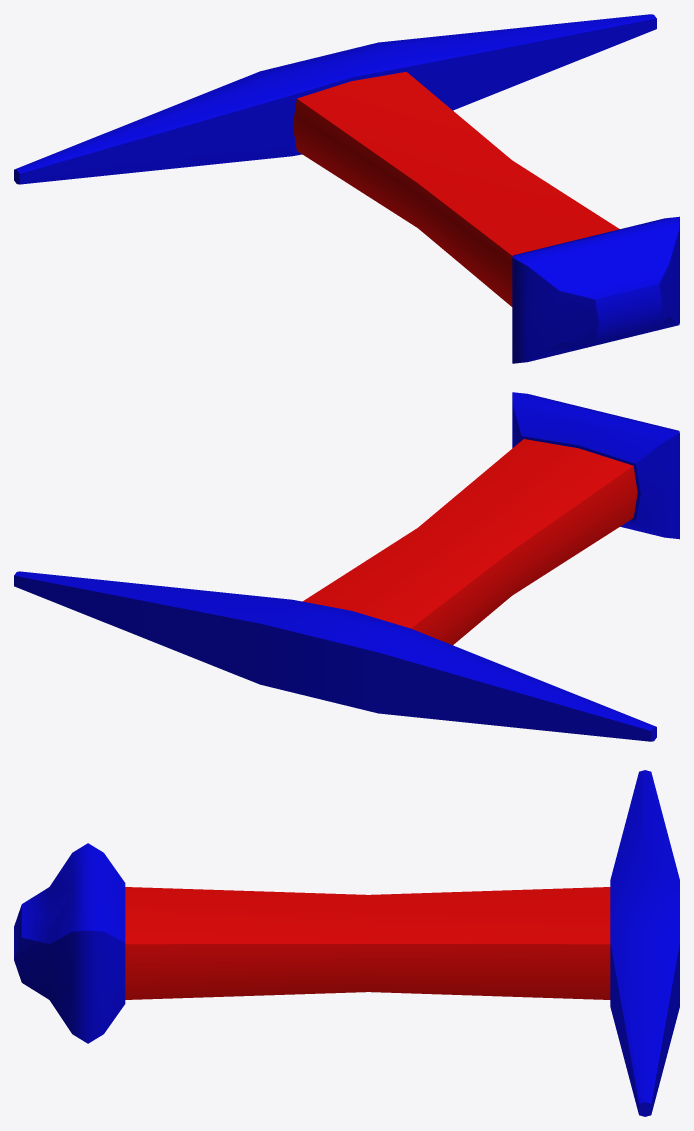
The model's file is hand_2.fbx.
The picture shows the model from 3 angles, top to bottom: view 1: azimuth 30°, elevation 25°; view 2: azimuth 150°, elevation 25°; view 3: azimuth 270°, elevation 25°; orthographic projection. The views are drawn at different scales.
Parts seen in each view (by area): view 1: hand_2; view 2: hand_2; view 3: hand_2.
Boxes of the visible parts, x1,y1,x2,y2 form: hand_2: (14, 14, 679, 363); hand_2: (14, 392, 679, 741); hand_2: (14, 770, 679, 1116).
Bounding box in the file's own units: 30.56 × 4.86 × 25.9.
